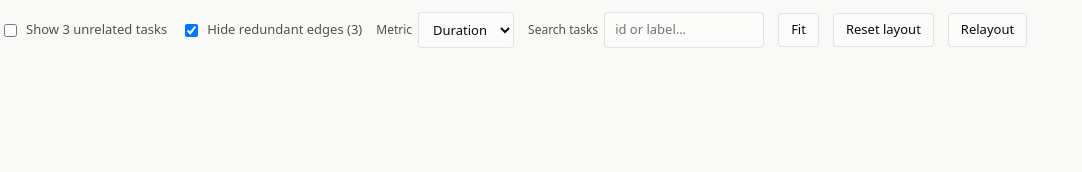
GraphToolbar › AC-3: ArrowDown cycles to the 2nd match and shows 'n of m'
Step 1. Type "u" into the field labelled "Search tasks" → (684, 30), box [604,12,764,48]
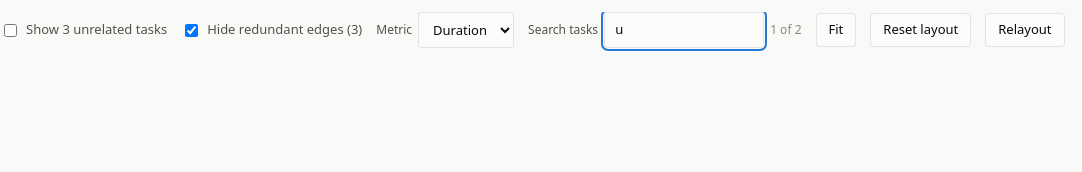
Step 2. Press Enter
Result: the text "1 of 2" is shown at [770,21,802,39]
Step 3. Press Arrowdown
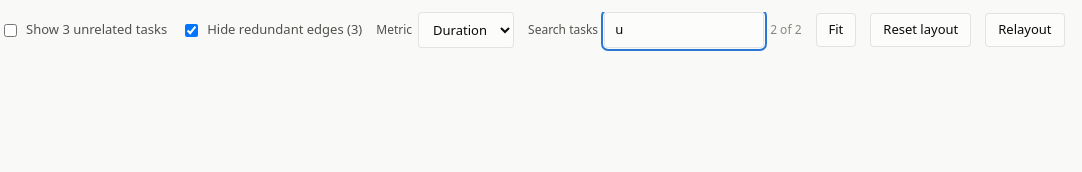
Result: the text "2 of 2" is shown at [770,21,802,39]
// Wraps back around to the first match.
Step 4. Press Arrowdown
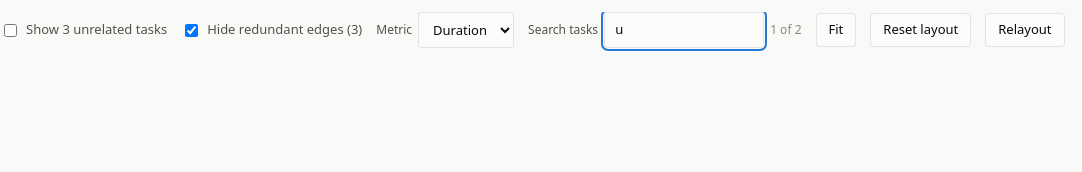
Result: the text "1 of 2" is shown at [770,21,802,39]
